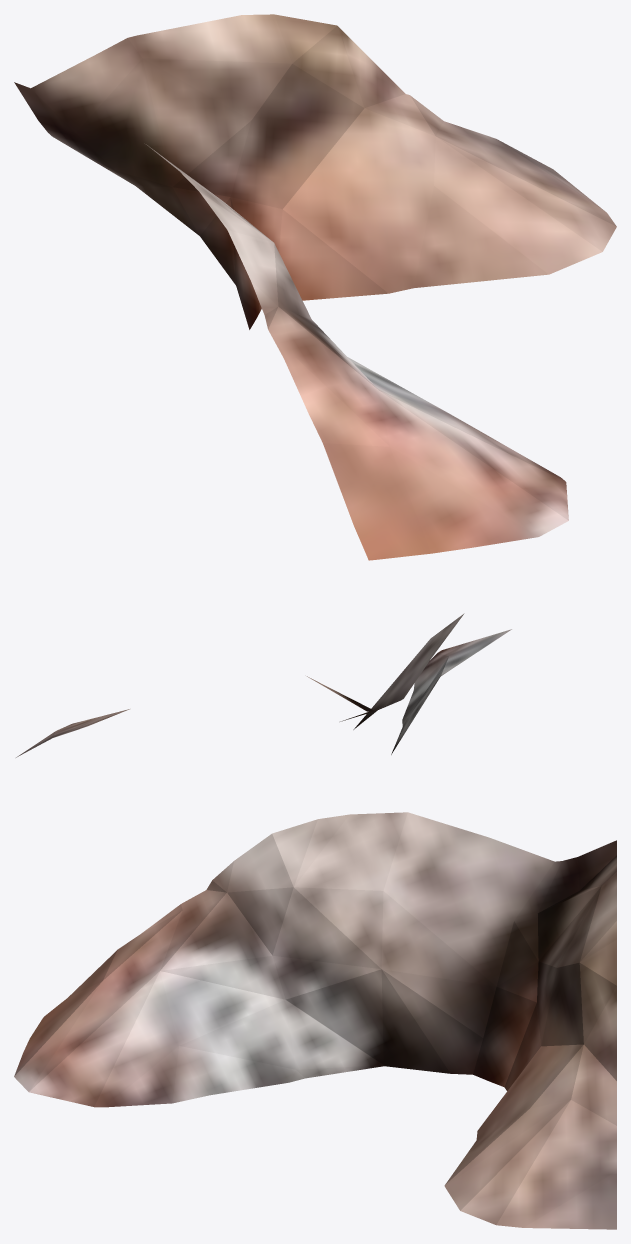
The picture shows the model from 3 angles, top to bottom: view 1: azimuth 30°, elevation 25°; view 2: azimuth 150°, elevation 25°; view 3: azimuth 270°, elevation 25°; orthographic projection. The views are drawn at different scales.
Size of the model in its own units: 0.1977 by 0.0887 by 0.2369.
Materials: 1 (1 with a texture image).
